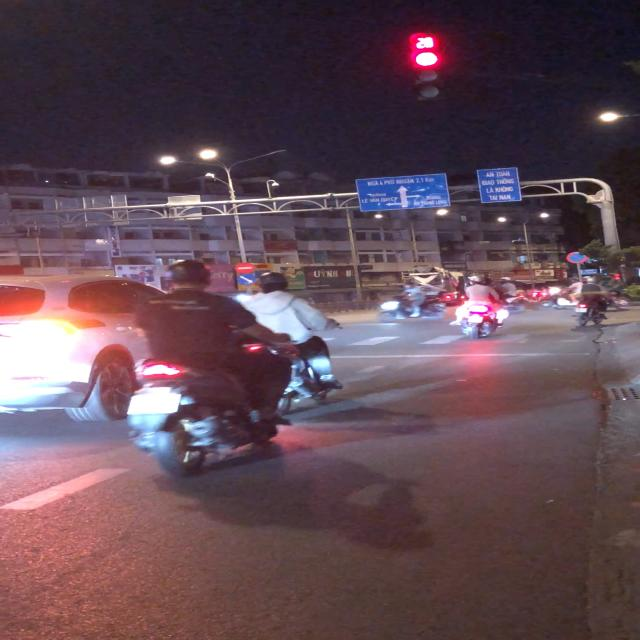Bien bao cam di nguoc chieu: (234, 262, 257, 273)
Bien bao huong phai di vong chuong ngai vat: (235, 274, 258, 286)
